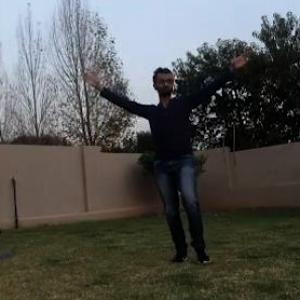takeoff: (81, 35, 261, 275)
